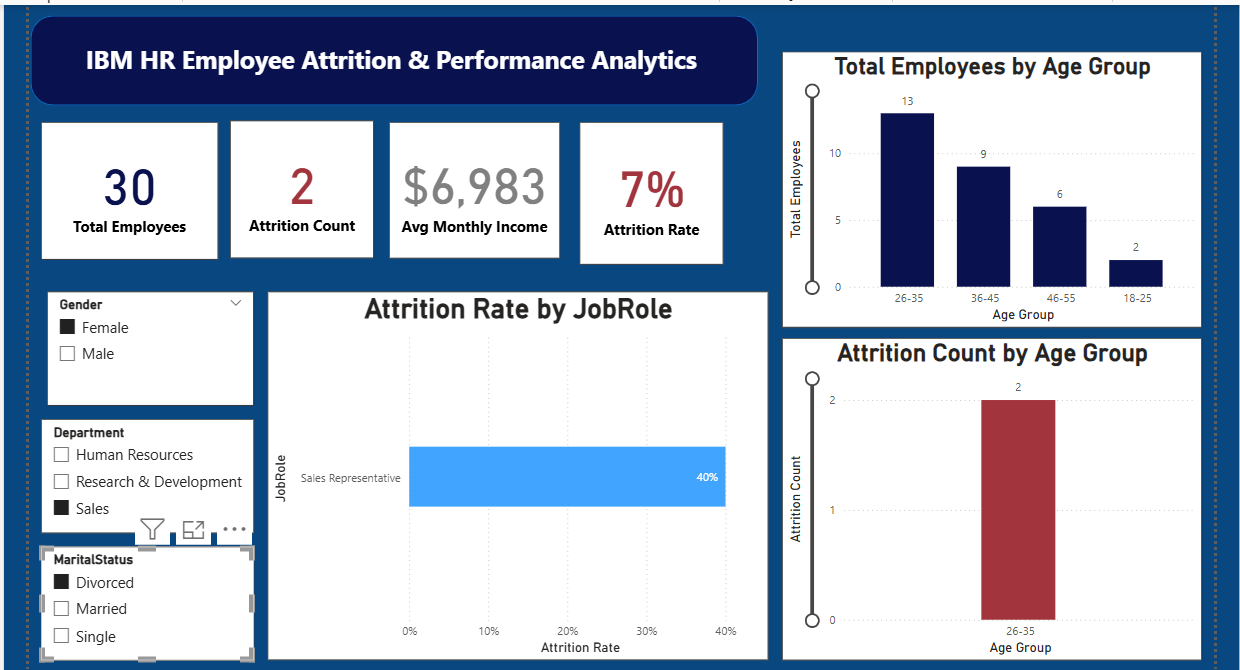

Layout of this report page (visuals, bound fields, positions):
{"tool":"powerbi","page":{"name":"Page 1","canvas":[1280,720],"ordinal":0},"visuals":[{"type":"clusteredColumnChart","fields":{"Category":["Table.Age Group"],"Y":["_Measures.Total Employees"]},"box":[812.9,50.2,453.4,297.9],"z":0},{"type":"card","fields":{"Values":["_Measures.Total Employees"]},"box":[13,126.3,191.1,149],"z":1000},{"type":"card","fields":{"Values":["_Measures.Attrition Count"]},"box":[217,124.7,155.4,149],"z":2000},{"type":"card","fields":{"Values":["_Measures.Attrition Rate"]},"box":[594.3,126.3,155.4,153.8],"z":3000},{"type":"card","fields":{"Values":["_Measures.Avg Monthly Income"]},"box":[388.6,126.3,184.6,147.3],"z":4000},{"type":"clusteredBarChart","fields":{"Category":["WA_Fn-UseC_-HR-Employee-Attrition.JobRole"],"Y":["_Measures.Attrition Rate"]},"box":[257.5,309.3,540.8,398.3],"z":5000},{"type":"clusteredColumnChart","fields":{"Category":["Table.Age Group"],"Y":["_Measures.Attrition Count"]},"box":[812.9,359.5,453.4,348.1],"z":6000},{"type":"slicer","fields":{"Values":["WA_Fn-UseC_-HR-Employee-Attrition.Department"]},"box":[13,446.9,229.9,123.1],"z":7000},{"type":"slicer","fields":{"Values":["WA_Fn-UseC_-HR-Employee-Attrition.Gender"]},"box":[19.4,309.3,223.5,123.1],"z":8000},{"type":"slicer","fields":{"Values":["WA_Fn-UseC_-HR-Employee-Attrition.MaritalStatus"]},"box":[13,584.5,229.9,123.1],"z":9000},{"type":"shape","box":[1.6,11.3,785.3,97.2],"z":10000},{"type":"textbox","box":[19.4,30.8,743.2,56.7],"z":11000}]}

Visuals, with their boxes in screenshot pixels (x1, y1, x2, y2):
clusteredColumnChart - Table.Age Group x _Measures.Total Employees: 780, 49, 1195, 322
card - _Measures.Total Employees: 47, 119, 222, 255
card - _Measures.Attrition Count: 234, 117, 376, 254
card - _Measures.Attrition Rate: 580, 119, 722, 260
card - _Measures.Avg Monthly Income: 391, 119, 560, 254
clusteredBarChart - WA_Fn-UseC_-HR-Employee-Attrition.JobRole x _Measures.Attrition Rate: 271, 286, 766, 651
clusteredColumnChart - Table.Age Group x _Measures.Attrition Count: 780, 332, 1195, 651
slicer - WA_Fn-UseC_-HR-Employee-Attrition.Department: 47, 412, 258, 525
slicer - WA_Fn-UseC_-HR-Employee-Attrition.Gender: 53, 286, 258, 399
slicer - WA_Fn-UseC_-HR-Employee-Attrition.MaritalStatus: 47, 538, 258, 651
shape: 37, 14, 756, 103
textbox: 53, 31, 734, 83
